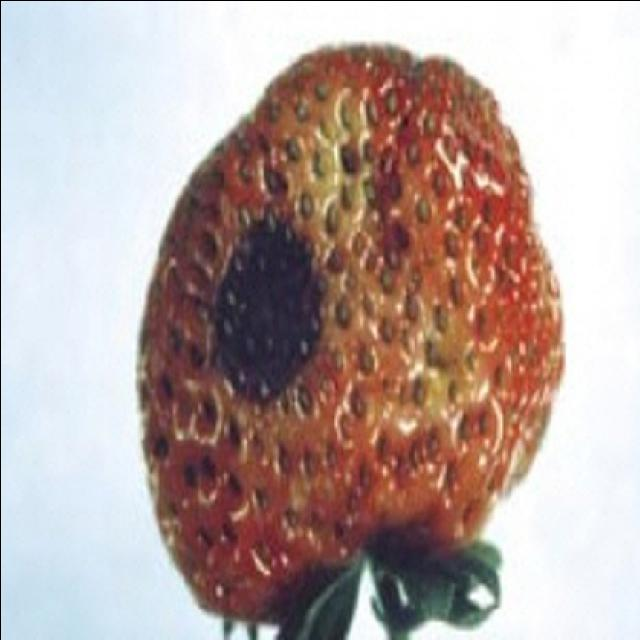Anthracnose Fruit Rot: (191, 199, 349, 401)
